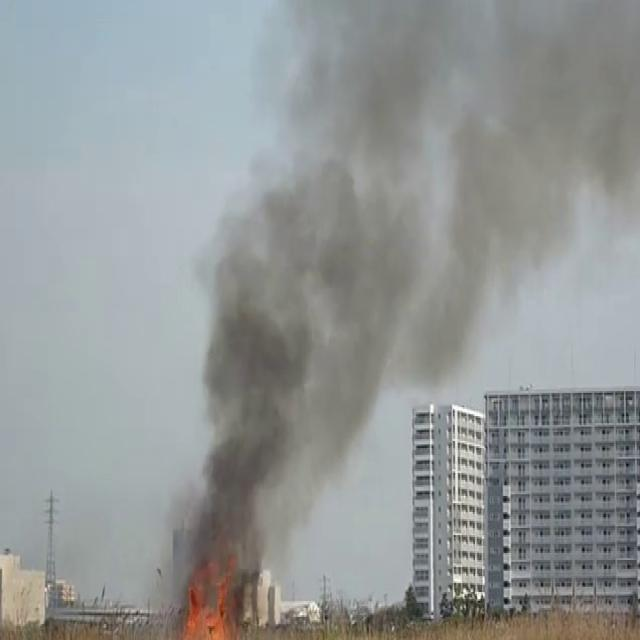Fire: (167, 570, 242, 640)
Smoke: (161, 0, 639, 604)
